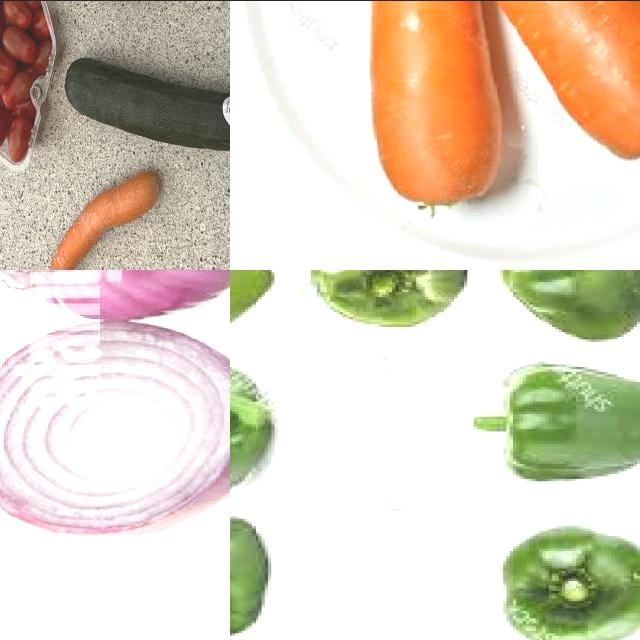bell_pepper: (462, 352, 640, 496), (486, 518, 640, 640), (297, 270, 493, 337), (491, 270, 640, 342), (231, 349, 286, 495), (231, 504, 286, 640)
carrot: (362, 1, 640, 164), (358, 1, 498, 213), (42, 168, 165, 270)
onion: (1, 323, 231, 541)
tomato: (1, 1, 30, 125)
zucchini: (58, 56, 231, 155)
